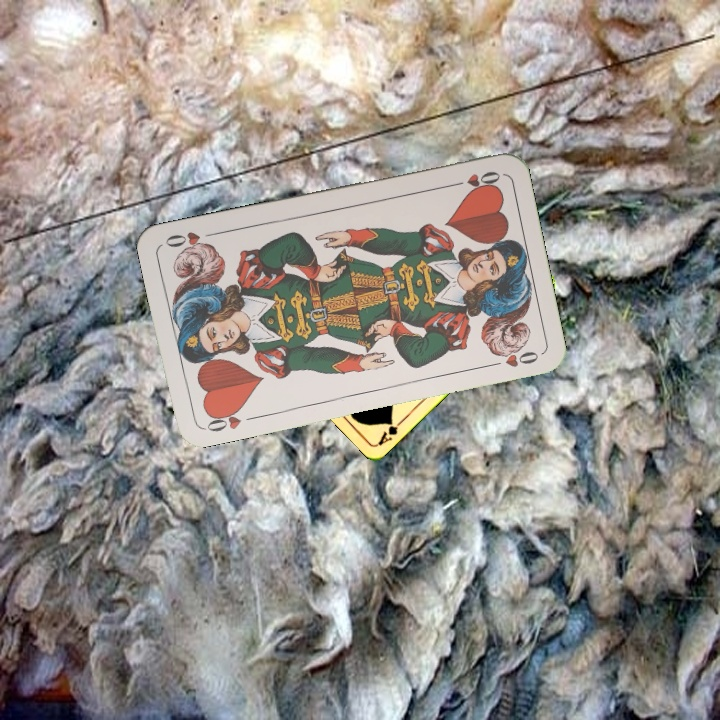GA: (374, 415, 407, 448)
HO: (445, 167, 503, 193), (199, 403, 245, 435)
